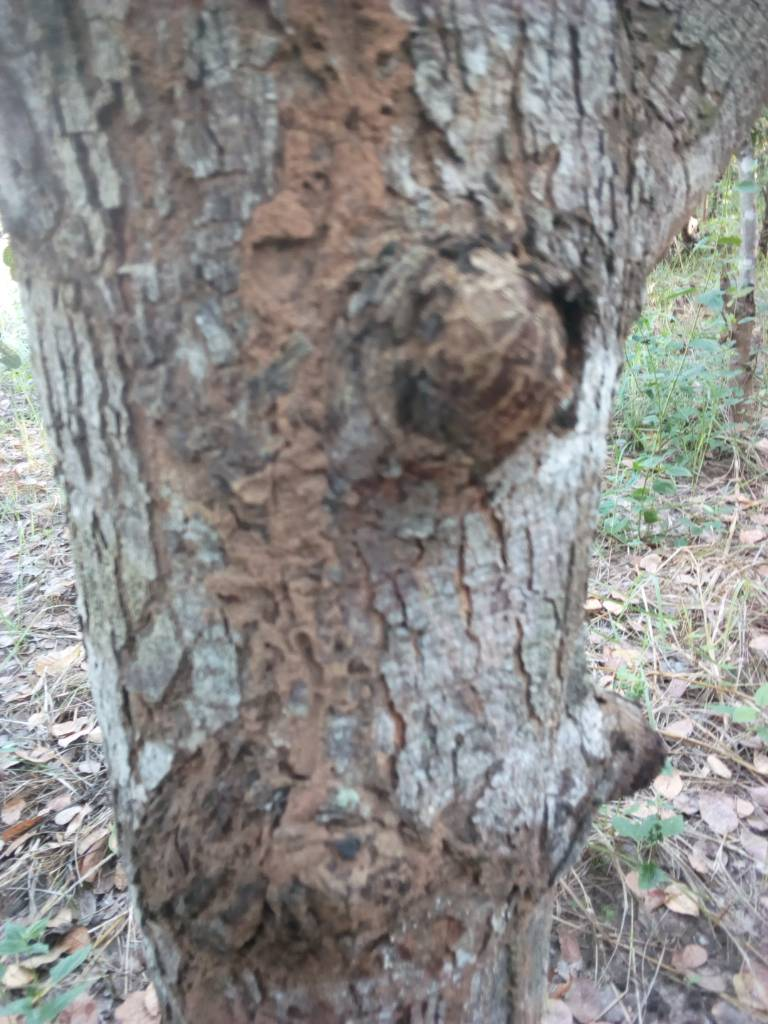Termites: (225, 17, 479, 971)
